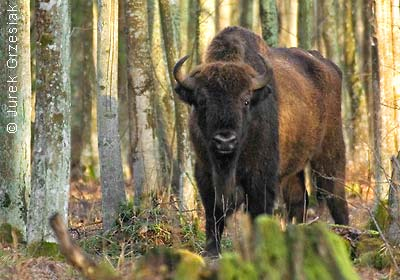zubr: (154, 11, 371, 258)
